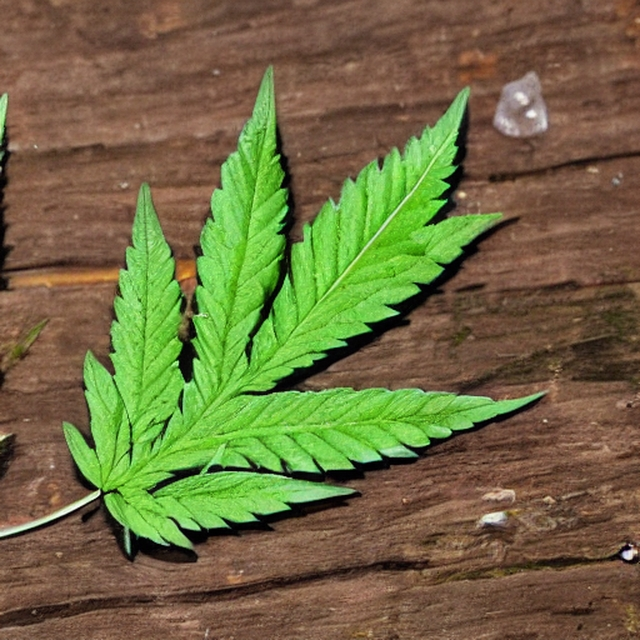Marijuana Leaf: (0, 63, 550, 561)
